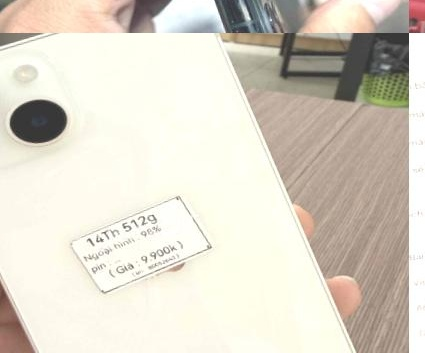scratch: (228, 8, 292, 33), (417, 0, 425, 33)
